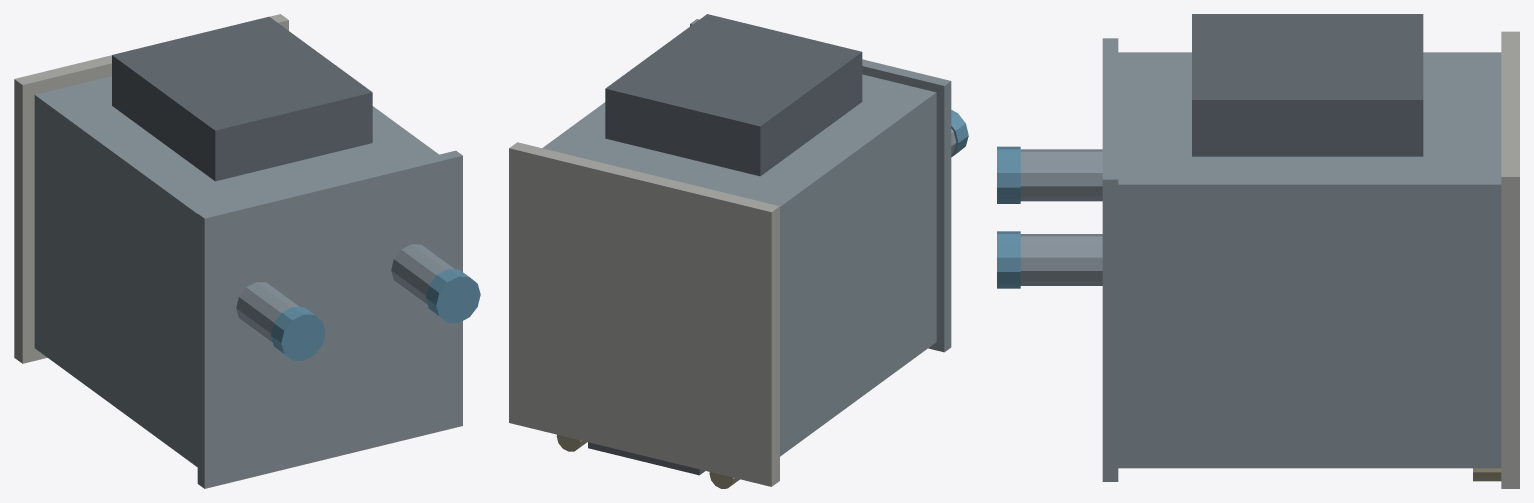
File: AGE_X_industrial.glb
3 renders of one model, left to right at view 1: azimuth 30°, elevation 25°; view 2: azimuth 150°, elevation 25°; view 3: azimuth 270°, elevation 25°, orthographic. The views are drawn at different scales.
Visible parts, largest first — view 1: world; view 2: world; view 3: world.
Boxes of the visible parts, x1,y1,x2,y2 form: world: (14,14,480,488); world: (509,14,968,488); world: (997,14,1519,488).
Bounding box in the file's own units: 6.6 × 8.05 × 10.02.
